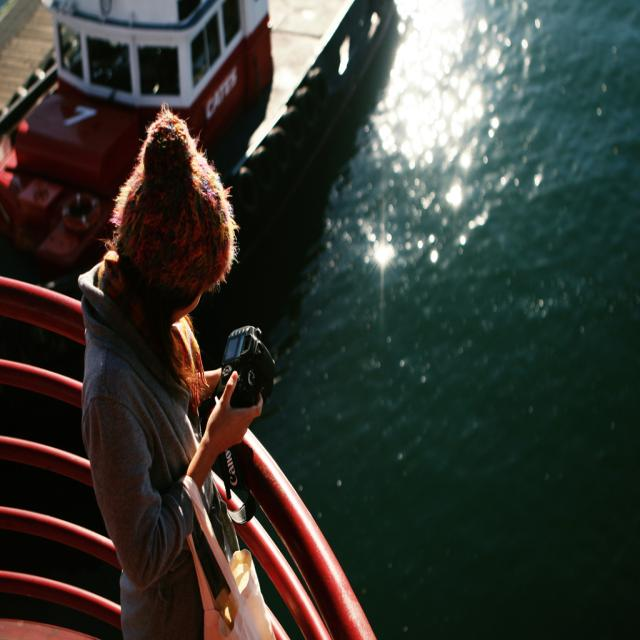Boat: (2, 181, 427, 629), (3, 0, 395, 333)
